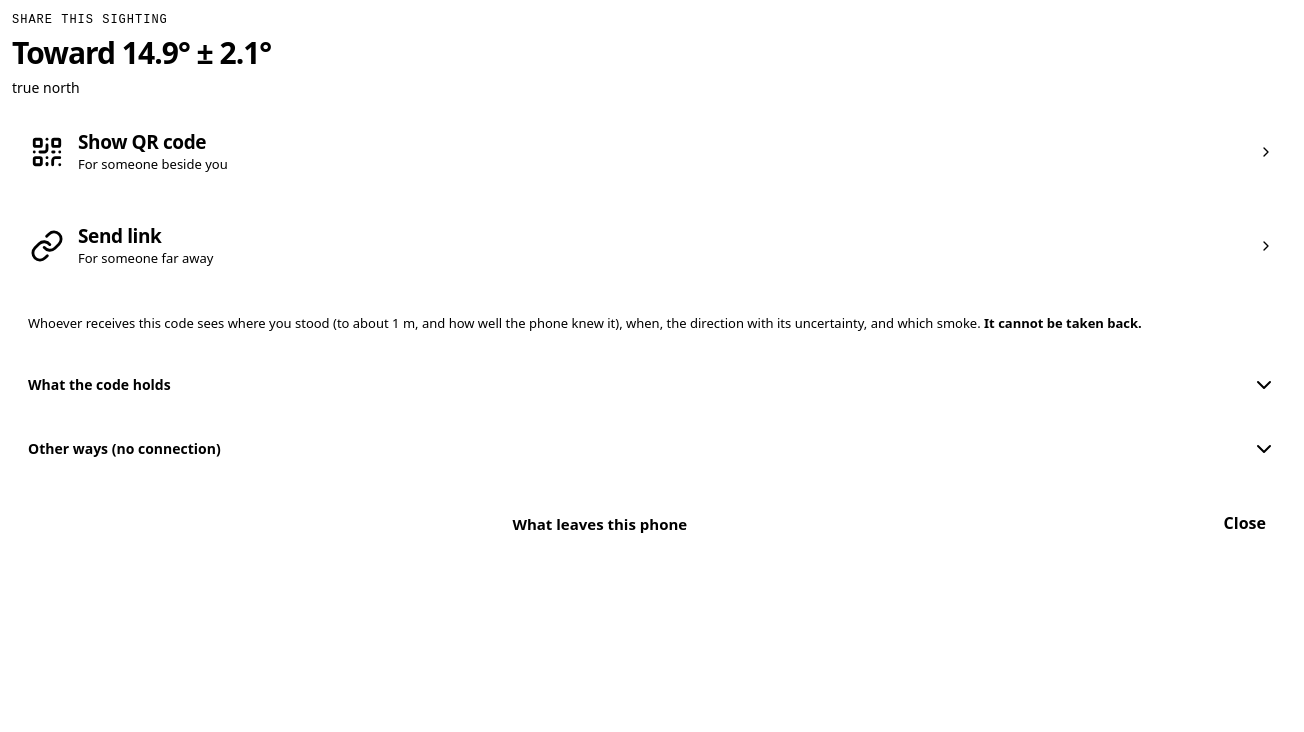
Test: sending the link (Req 10.1) › otherwise copies the link, says that it did, and records link
Click the button with aria-label "Send link (someone far away)".
click(47, 246)  # box [12,204,1292,288]
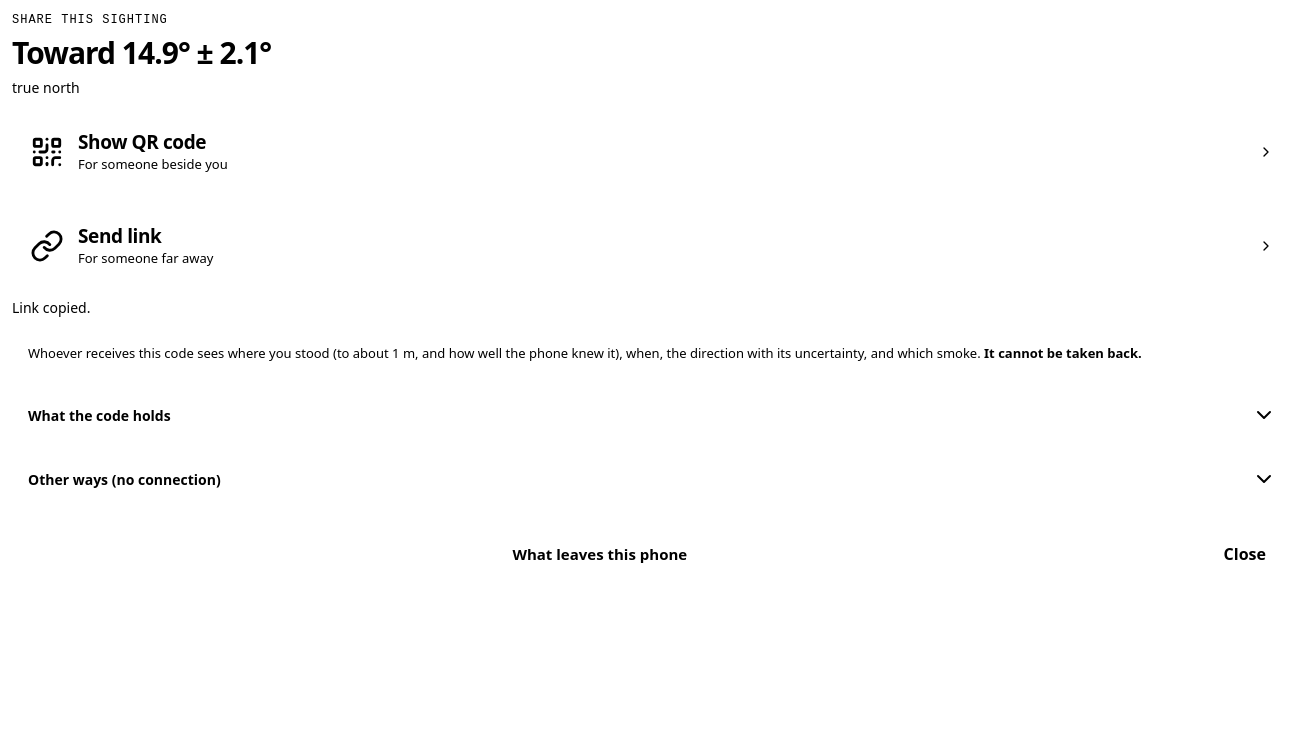
expect the message reads "Link copied.": met, box [12,298,90,317]
